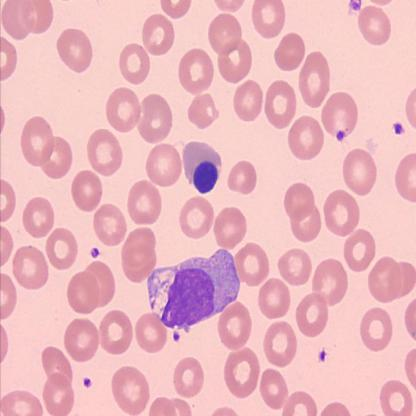NRC: (182, 138, 224, 195)
